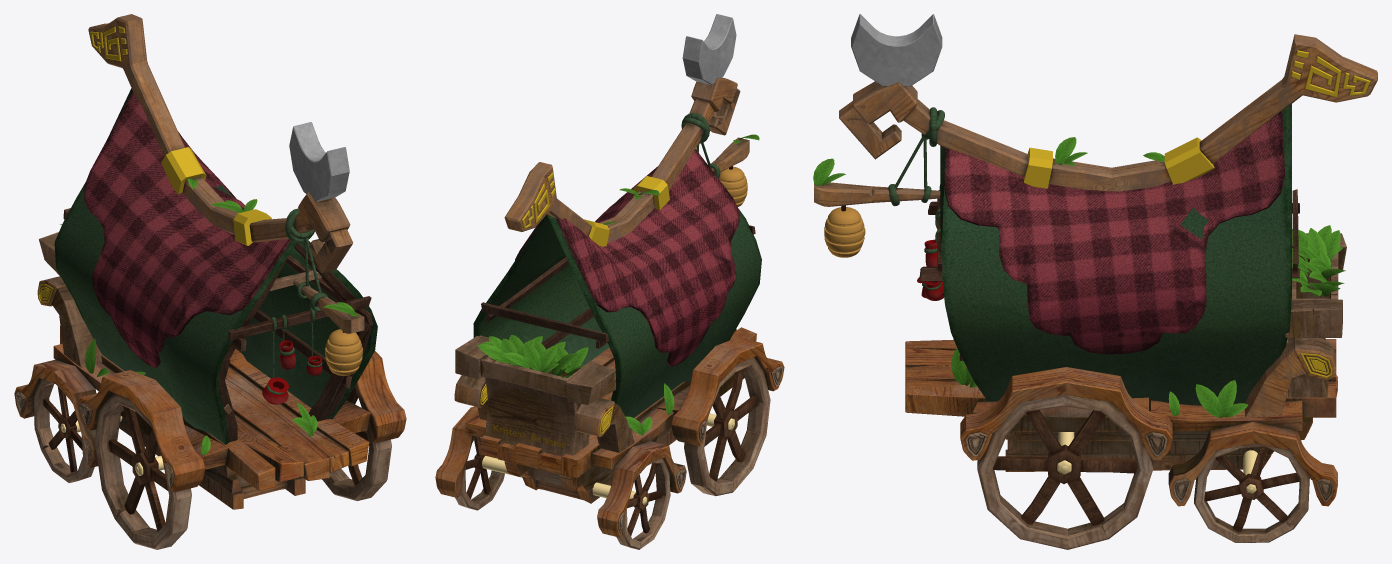
The model's file is merchants_shop.fbx.
3 views of the same model, side by side, from view 1: azimuth 30°, elevation 25°; view 2: azimuth 150°, elevation 25°; view 3: azimuth 270°, elevation 25° (orthographic). The views are drawn at different scales.
Parts seen in each view (by area): view 1: Object_128, Object_68, Object_70, Object_48, Object_42, Object_40, Object_72, Object_74, Object_8, Object_50, Object_62, Object_4 (+16 smaller); view 2: Object_128, Object_68, Object_70, Object_64, Object_50, Object_48, Object_66, Object_42, Object_72, Object_46, Object_40, Object_62 (+17 smaller); view 3: Object_128, Object_68, Object_70, Object_42, Object_48, Object_40, Object_50, Object_72, Object_60, Object_46, Object_4, Object_66 (+11 smaller).
Part boxes in pixels (x1=…): Object_128: x1=84, y1=92, x2=310, y2=368; Object_68: x1=54, y1=88, x2=377, y2=444; Object_70: x1=88, y1=14, x2=353, y2=273; Object_48: x1=78, y1=351, x2=406, y2=492; Object_42: x1=94, y1=384, x2=391, y2=549; Object_40: x1=108, y1=387, x2=367, y2=531; Object_72: x1=289, y1=122, x2=349, y2=201; Object_74: x1=218, y1=243, x2=370, y2=441; Object_8: x1=225, y1=379, x2=329, y2=480; Object_50: x1=14, y1=359, x2=98, y2=467; Object_62: x1=37, y1=276, x2=102, y2=367; Object_4: x1=229, y1=349, x2=369, y2=466; Object_128: x1=515, y1=149, x2=739, y2=366; Object_68: x1=473, y1=209, x2=761, y2=417; Object_70: x1=504, y1=77, x2=740, y2=246; Object_64: x1=485, y1=377, x2=589, y2=456; Object_50: x1=435, y1=406, x2=686, y2=537; Object_48: x1=671, y1=337, x2=784, y2=446; Object_66: x1=455, y1=335, x2=615, y2=404; Object_42: x1=684, y1=357, x2=770, y2=496; Object_72: x1=682, y1=14, x2=736, y2=84; Object_46: x1=455, y1=438, x2=670, y2=549; Object_40: x1=704, y1=368, x2=757, y2=481; Object_62: x1=574, y1=398, x2=634, y2=452; Object_128: x1=944, y1=111, x2=1284, y2=354; Object_68: x1=939, y1=104, x2=1291, y2=405; Object_70: x1=839, y1=34, x2=1377, y2=191; Object_42: x1=977, y1=395, x2=1153, y2=549; Object_48: x1=960, y1=367, x2=1172, y2=460; Object_40: x1=993, y1=410, x2=1137, y2=525; Object_50: x1=1168, y1=375, x2=1337, y2=506; Object_72: x1=851, y1=14, x2=942, y2=86; Object_60: x1=1244, y1=337, x2=1336, y2=417; Object_46: x1=1194, y1=443, x2=1309, y2=542; Object_4: x1=905, y1=385, x2=1336, y2=417; Object_66: x1=1285, y1=233, x2=1346, y2=337.
Bounding box in the file's own units: 337 × 610 × 658.
3 materials, 3 textured.
